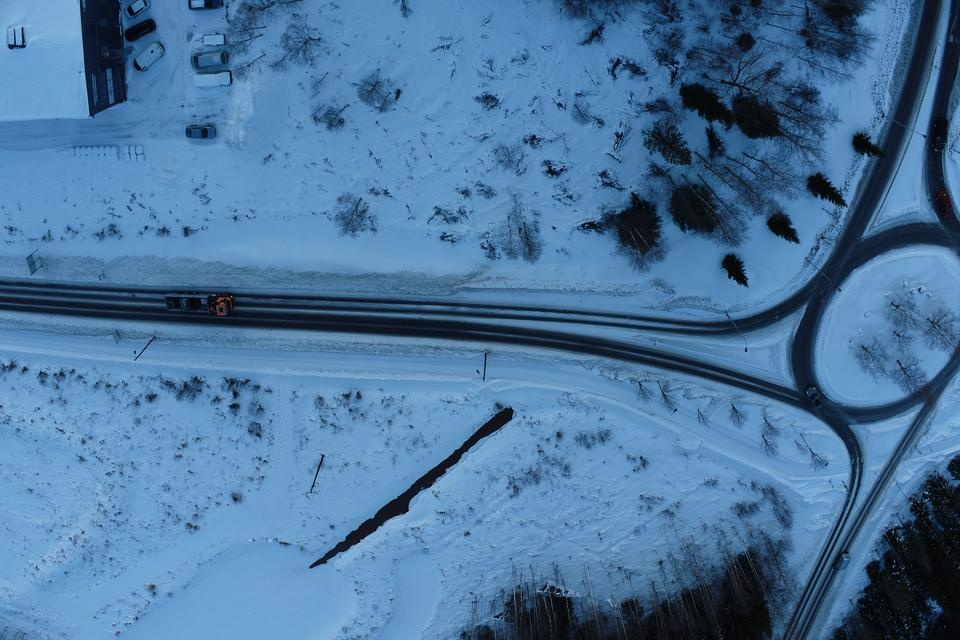roundabout: (773, 205, 960, 472)
